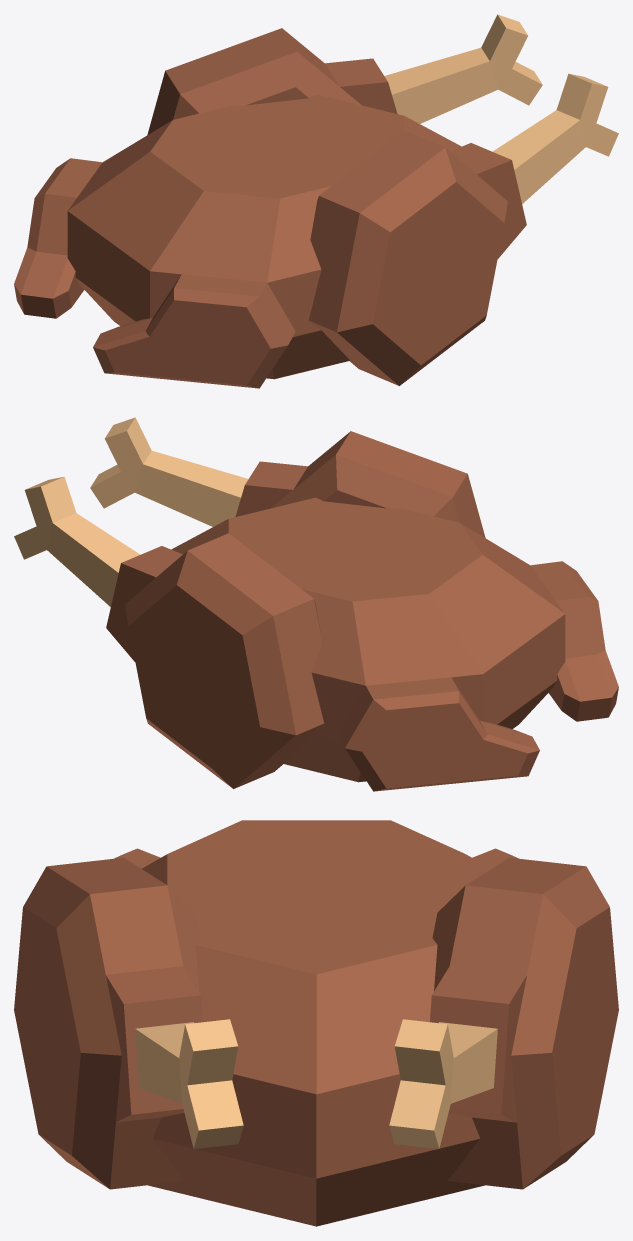
Rendered from turkey.fbx.
3 views of the same model, one above another, from view 1: azimuth 30°, elevation 25°; view 2: azimuth 150°, elevation 25°; view 3: azimuth 270°, elevation 25° (orthographic). The views are drawn at different scales.
Parts seen in each view (by area): view 1: turkey, leg (×2); view 2: turkey, leg (×2); view 3: leg (×2), turkey.
Part boxes in pixels (x1,y1,x2,y2): turkey: (14,94,461,388); leg (×2): (147,14,618,385); turkey: (171,497,618,791); leg (×2): (14,417,485,788); leg (×2): (14,857,618,1189); turkey: (114,820,518,1226).
Size of the model in its own units: 9.35 by 3.77 by 6.79.
